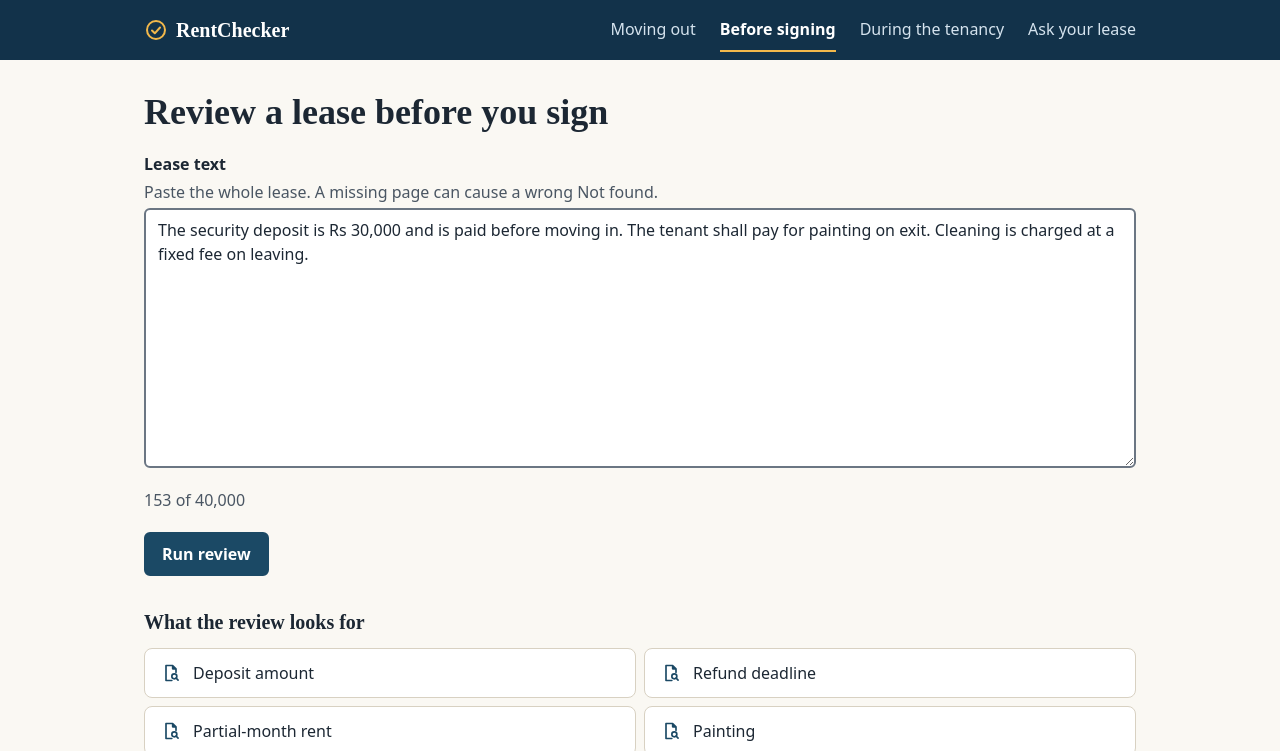
it: Before signing overrides and copy › F4-R6 a quote found in the lease sets the row to Found, set by you, and Remove override resets it
This screenshot has width=1280, height=751.
Click the button "Run review": (206, 554) [144,532,269,576]
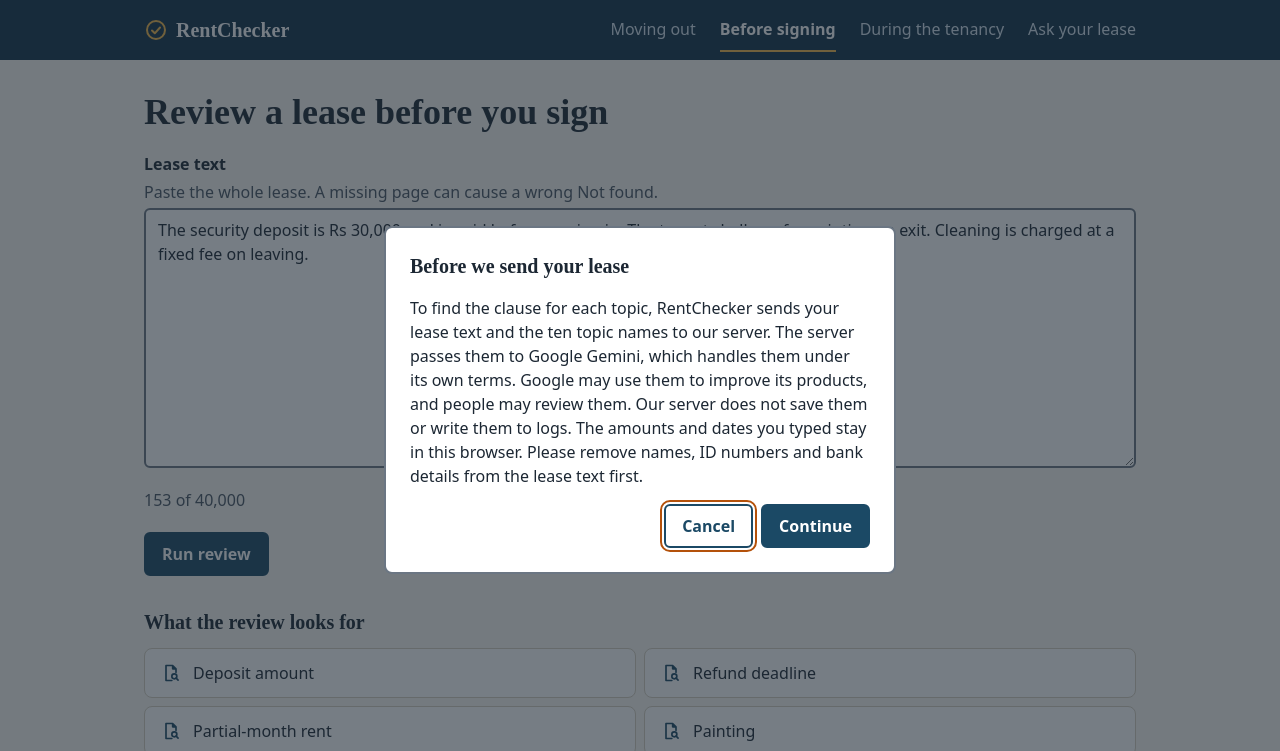
Click the button "Continue": (816, 526) [761,504,870,548]
(page scrolled)
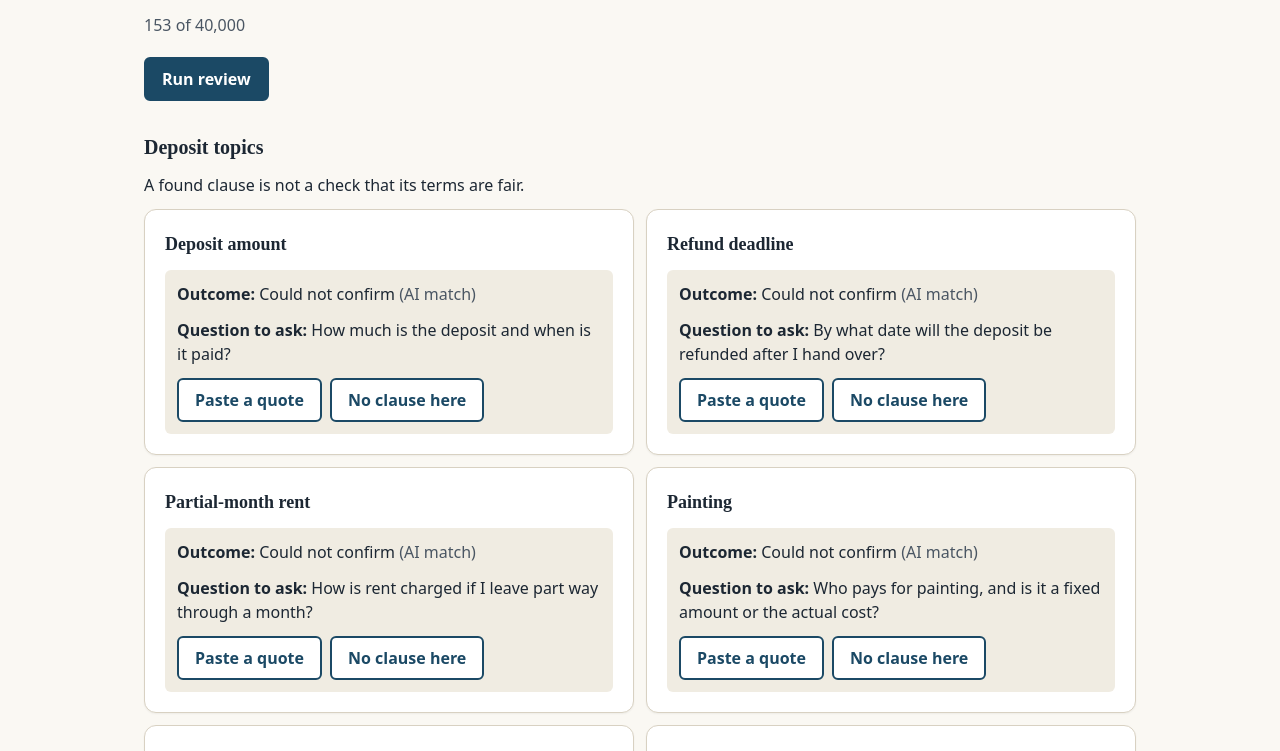
Expected: the heading "Painting" is shown, [667,492,732,512]
Click the button with aria-label "Paste a quote for Deposit amount": (250, 400) [177,378,322,422]
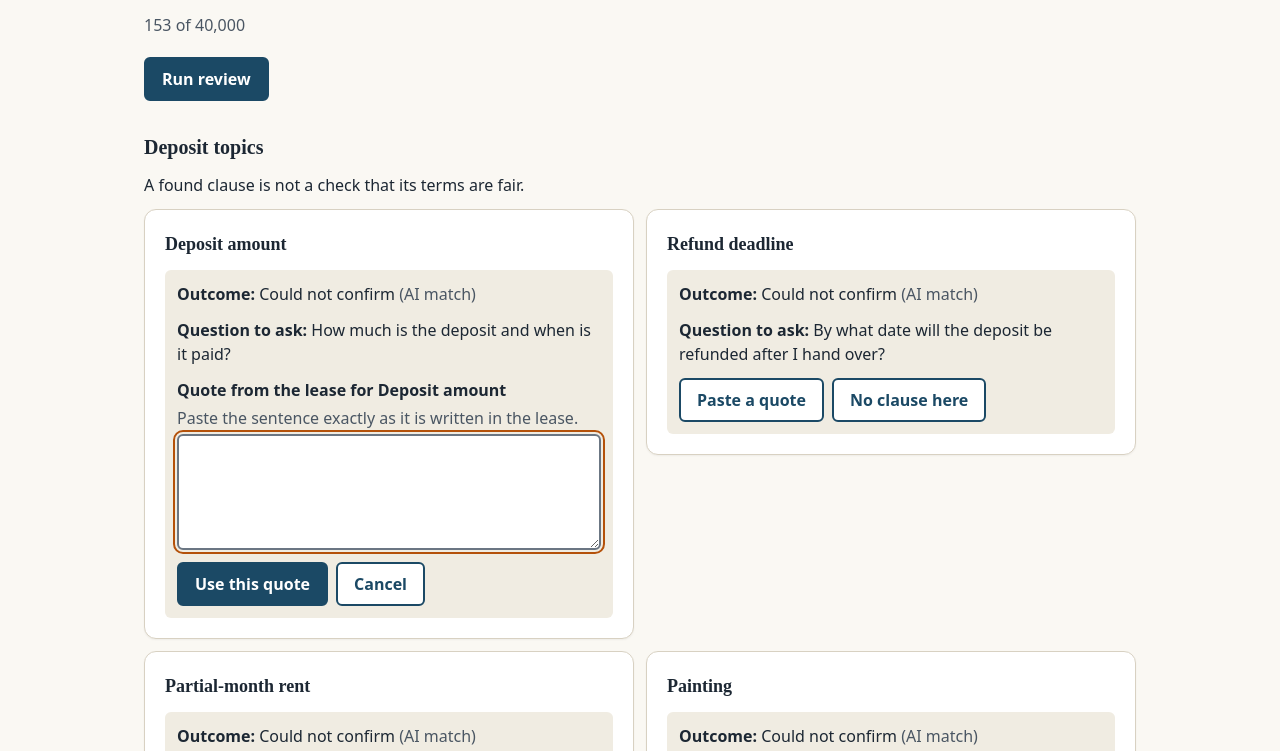
In the text box labelled "Quote from the lease for Deposit amount": (389, 492) [177,434,601,550], type "security deposit is Rs 30,000"
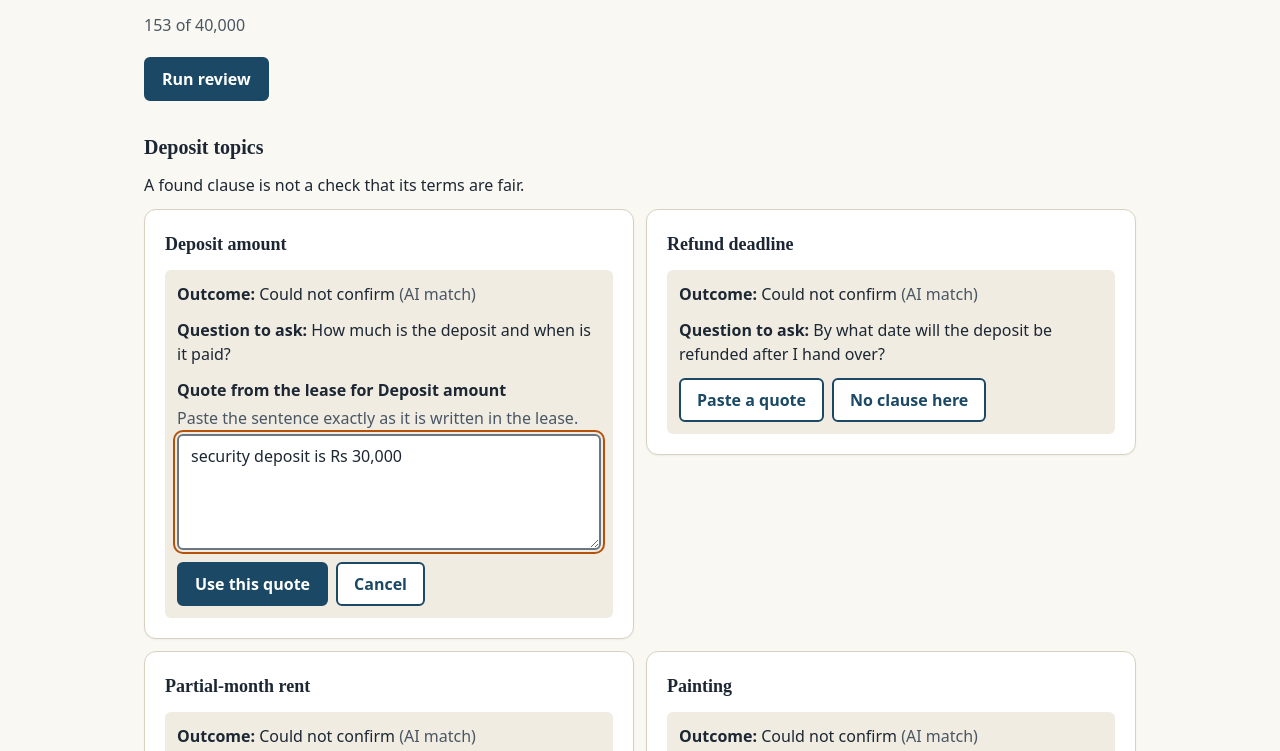
Click the button "Use this quote": (253, 584) [177,562,328,606]
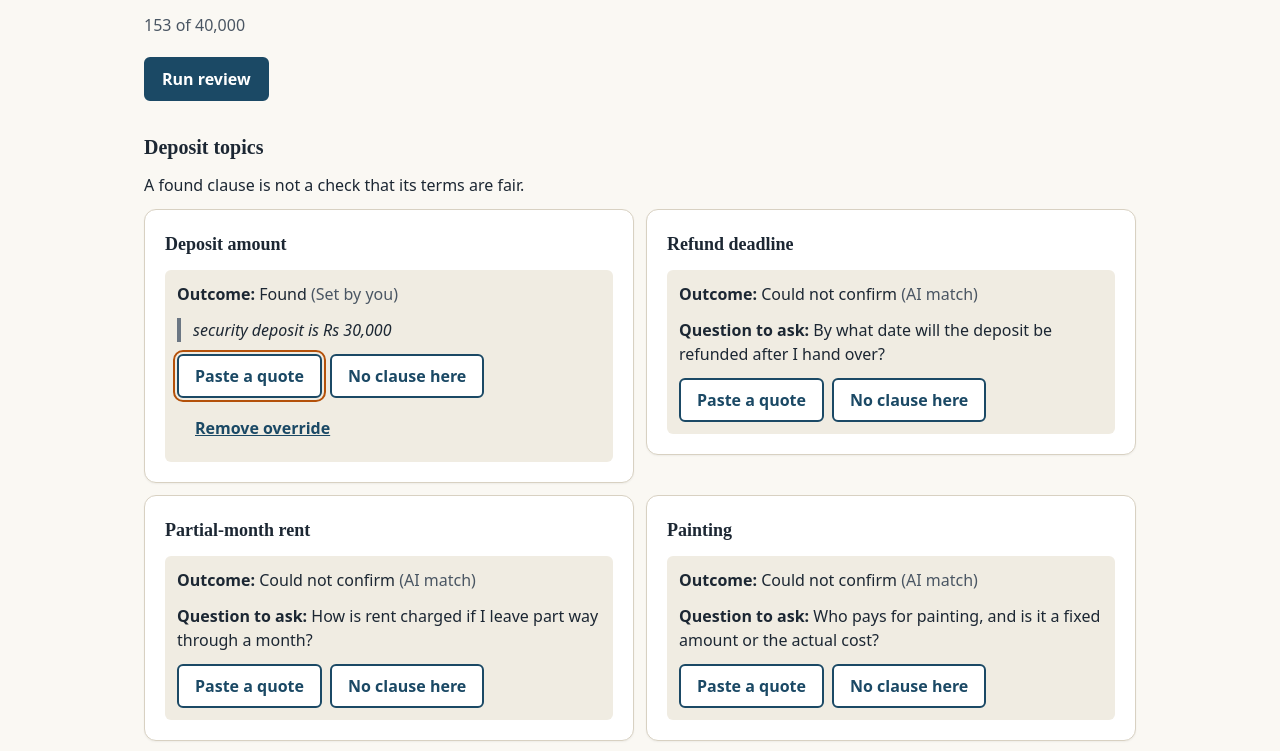
Expected: the text "(Set by you)" is shown, [307,283,398,305]
Expected: the text "Outcome: Found (Set by you)" is shown, [177,283,398,305]
Click the button with aria-label "Remove override for Deposit amount": (263, 428) [177,406,348,450]
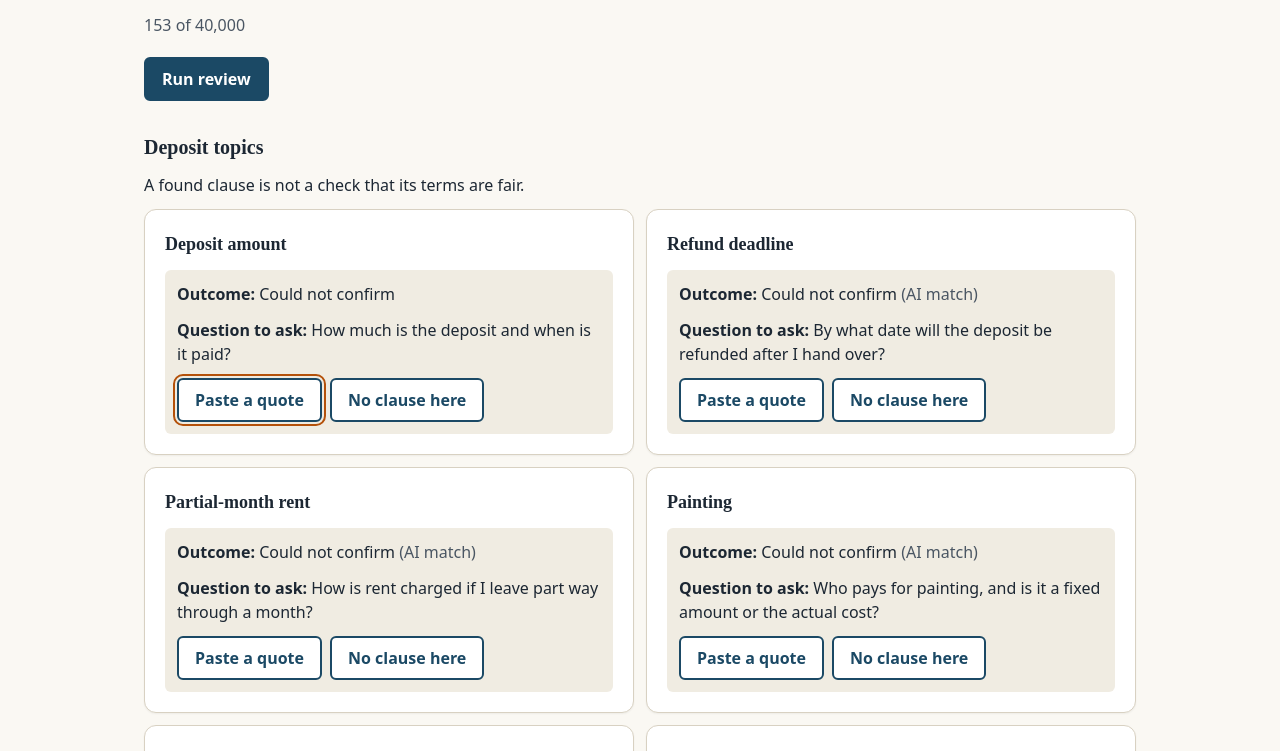
Expected: the text "Outcome: Could not confirm" is shown, [177,283,395,305]
